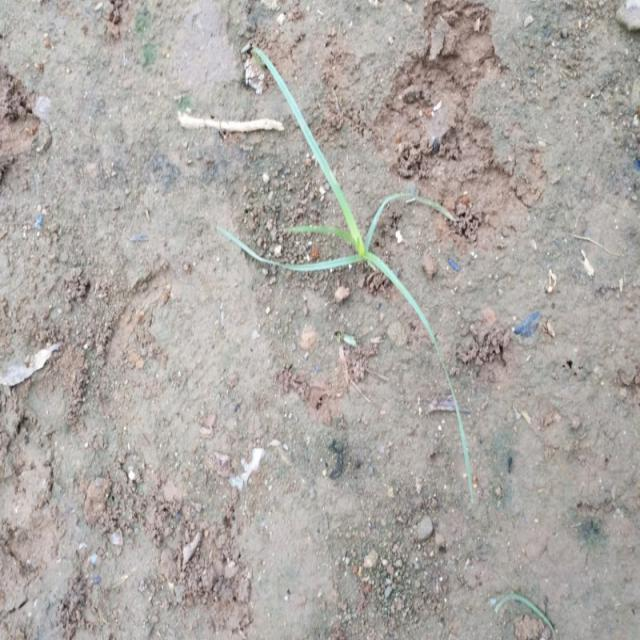sedge: (235, 54, 515, 457)
